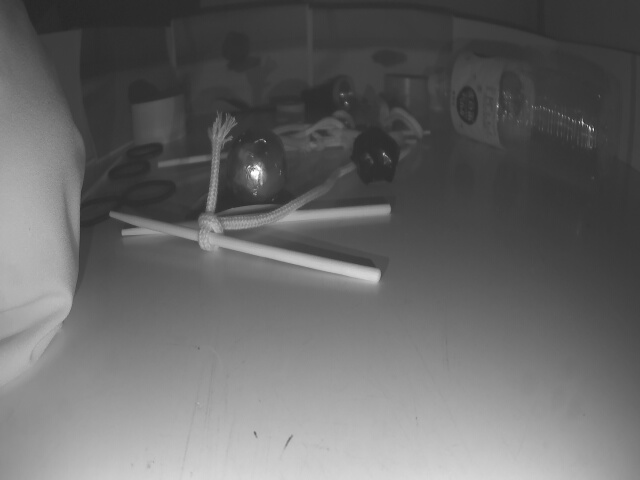Dead: (357, 127, 402, 183)
Live: (222, 132, 284, 202)
